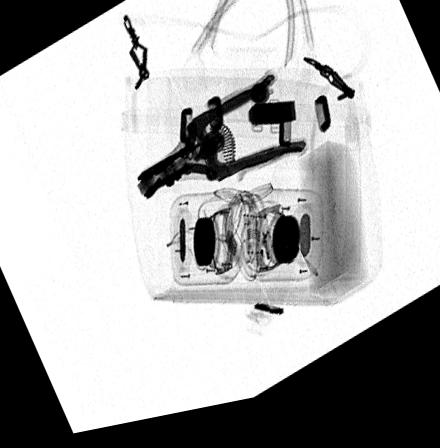Pliers: (133, 85, 306, 208)
